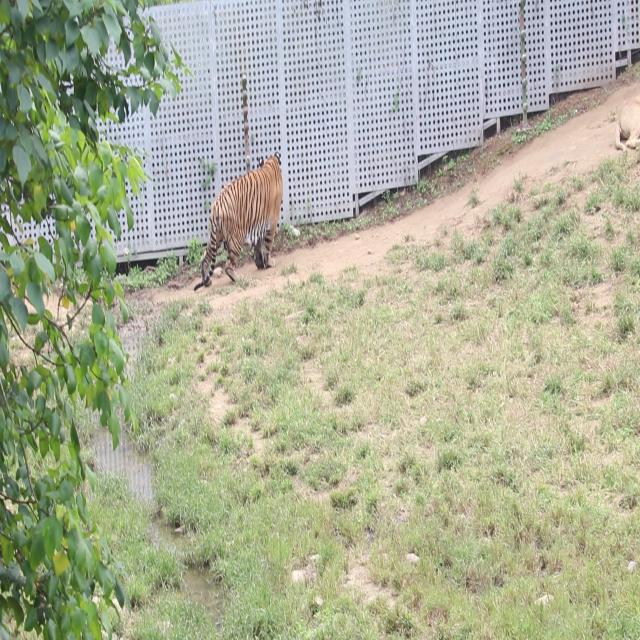Tiger: (183, 141, 295, 290)
